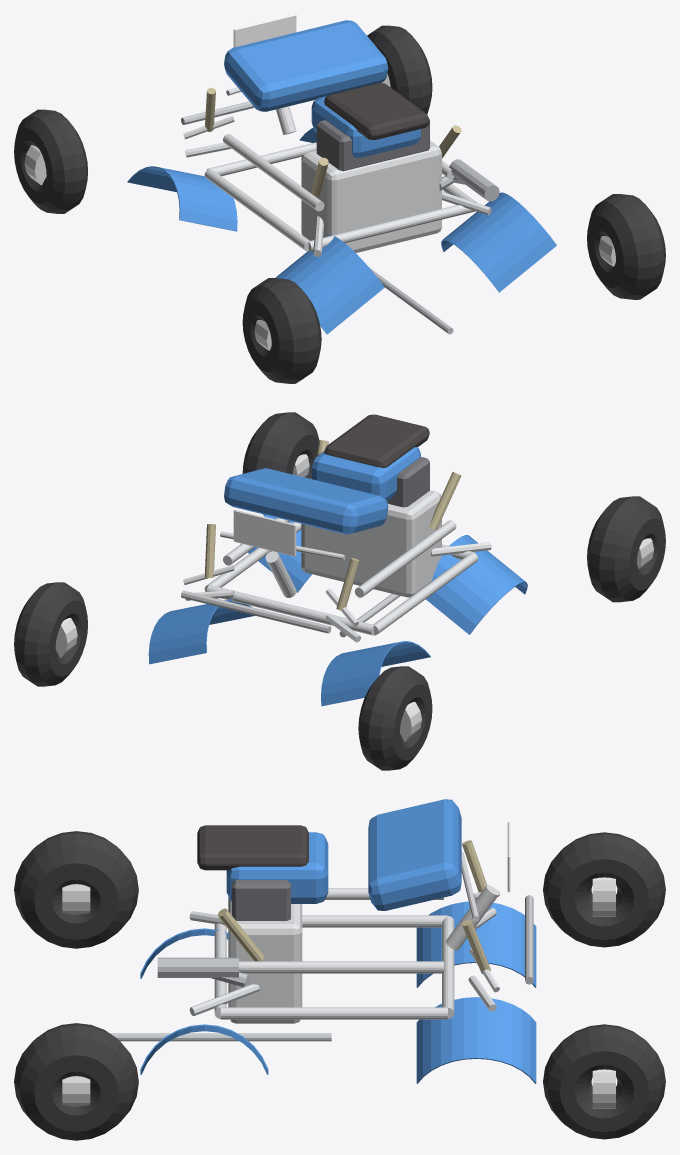
File: atv700_lod1.glb
3 renders of one model, top to bottom at view 1: azimuth 30°, elevation 25°; view 2: azimuth 150°, elevation 25°; view 3: azimuth 270°, elevation 25°, orthographic. The views are drawn at different scales.
Parts seen in each view (by area): view 1: b_hood, b_engine, b_wheel_rl_tire, b_wheel_rr_tire, b_rfender_1, b_wheel_fl_tire, b_rfender_-1, b_seat, b_ffender_-1, b_wheel_fr_tire, b_engine_head, b_tank (+8 smaller); view 2: b_engine, b_hood, b_wheel_rl_tire, b_wheel_fl_tire, b_wheel_fr_tire, b_rfender_-1, b_seat, b_ffender_-1, b_wheel_rr_tire, b_ffender_1, b_tank, b_plate (+11 smaller); view 3: b_wheel_rl_tire, b_wheel_rr_tire, b_wheel_fr_tire, b_wheel_fl_tire, b_hood, b_ffender_1, b_engine, b_seat, b_ffender_-1, b_tank, b_rail_1, b_rail2_1 (+19 smaller).
Boxes of the visible parts, box(x1,y1,x2,y2) form: b_hood: box(224, 20, 388, 111); b_engine: box(301, 140, 441, 252); b_wheel_rl_tire: box(242, 278, 321, 383); b_wheel_rr_tire: box(587, 194, 665, 299); b_rfender_1: box(441, 192, 556, 292); b_wheel_fl_tire: box(14, 109, 87, 213); b_rfender_-1: box(275, 234, 384, 334); b_seat: box(324, 83, 429, 139); b_ffender_-1: box(127, 166, 237, 231); b_wheel_fr_tire: box(367, 25, 432, 113); b_engine_head: box(316, 119, 429, 171); b_tank: box(311, 96, 420, 157); b_engine: box(301, 490, 441, 597); b_hood: box(224, 468, 388, 534); b_wheel_rl_tire: box(587, 496, 665, 602); b_wheel_fl_tire: box(358, 666, 432, 770); b_wheel_fr_tire: box(14, 582, 87, 686); b_rfender_-1: box(426, 535, 527, 634); b_seat: box(324, 414, 429, 467); b_ffender_-1: box(321, 641, 430, 706); b_wheel_rr_tire: box(242, 412, 319, 515); b_ffender_1: box(148, 599, 254, 664); b_tank: box(311, 447, 420, 500); b_plate: box(233, 509, 296, 556); b_wheel_rl_tire: box(14, 831, 138, 948); b_wheel_rr_tire: box(14, 1023, 138, 1140); b_wheel_fr_tire: box(543, 1024, 665, 1139); b_wheel_fl_tire: box(543, 832, 665, 947); b_hood: box(368, 799, 461, 910); b_ffender_1: box(416, 997, 536, 1083); b_engine: box(228, 896, 302, 1023); b_seat: box(197, 825, 308, 870); b_ffender_-1: box(416, 901, 536, 987); b_tank: box(226, 832, 328, 903); b_rail_1: box(220, 1007, 447, 1019); b_rail2_1: box(239, 961, 443, 973).
Size of the model in its own units: 2.52 by 1.15 by 3.21.
